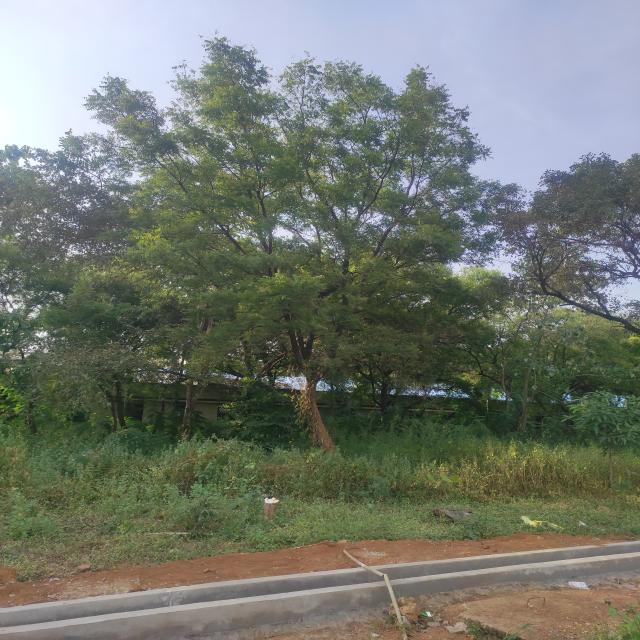Devakanchan tree: (536, 148, 640, 309)
Neem Tree: (153, 66, 466, 402)
